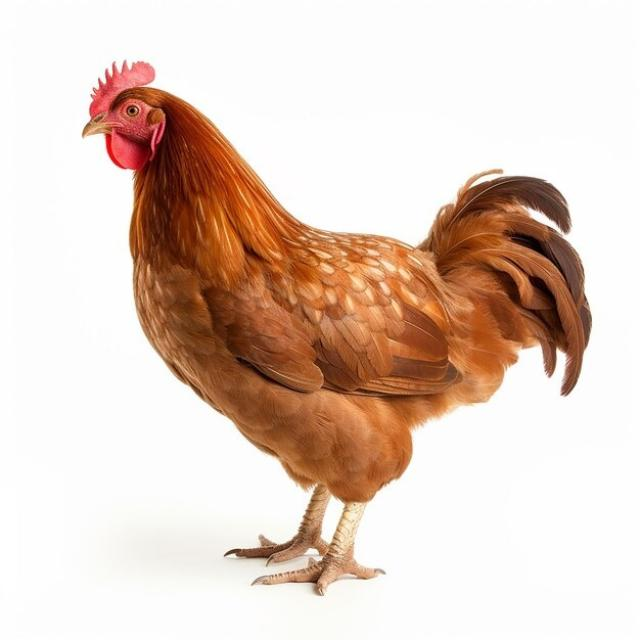Chicken: (81, 62, 591, 595)
